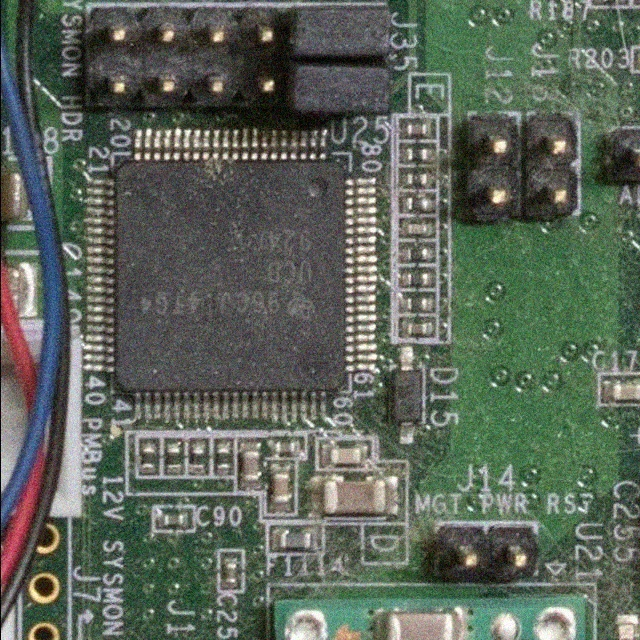kondensator: (240, 449, 260, 481), (330, 446, 362, 464), (271, 472, 289, 502), (610, 384, 640, 399), (402, 322, 428, 335), (162, 513, 184, 526), (223, 562, 235, 583), (404, 223, 426, 234), (406, 123, 426, 135)
opornik: (403, 245, 429, 262), (190, 444, 205, 472), (139, 446, 155, 471), (403, 271, 428, 287), (403, 295, 428, 311), (215, 446, 229, 474), (165, 446, 180, 471), (405, 196, 429, 211), (403, 147, 427, 161), (405, 172, 428, 185)
układ_scalony: (81, 126, 378, 424)
